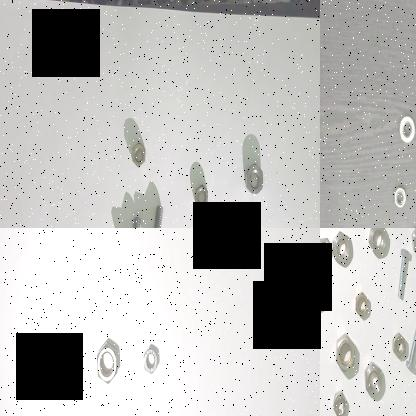Bolts: (396, 243, 411, 301), (403, 317, 416, 373), (145, 199, 166, 228), (123, 213, 147, 228)
NUTS: (95, 336, 124, 388), (334, 329, 358, 374), (242, 162, 268, 200), (144, 333, 165, 376), (332, 230, 352, 268), (398, 110, 416, 147), (364, 360, 382, 394), (192, 179, 210, 212), (368, 228, 386, 255), (130, 143, 147, 171), (352, 291, 368, 320), (332, 387, 347, 416), (392, 185, 408, 211), (392, 330, 405, 360), (320, 236, 331, 262), (320, 281, 325, 310)
